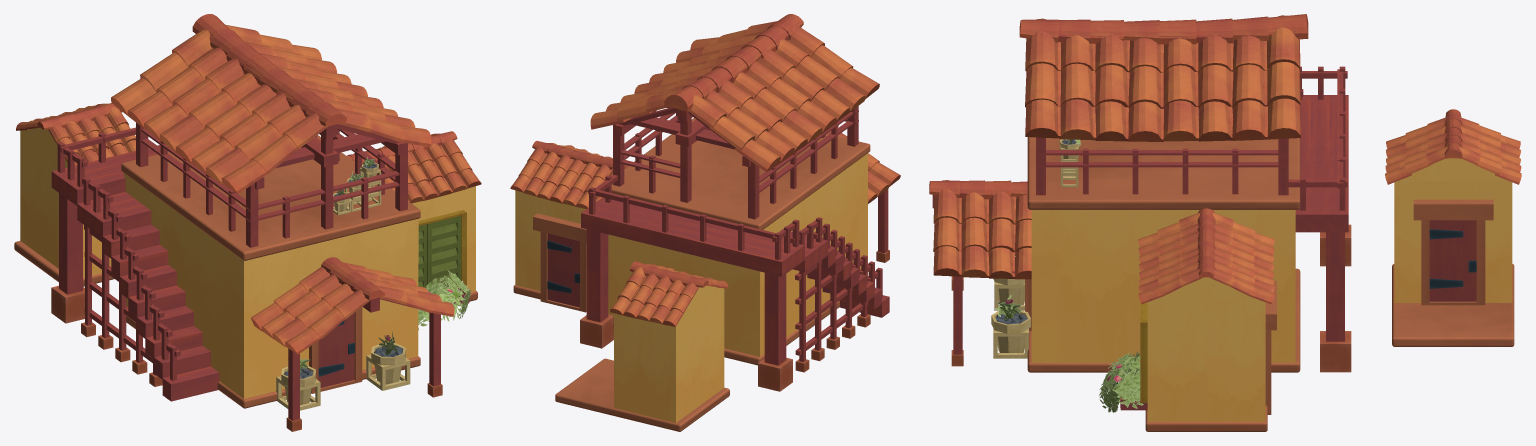
File: Long's house modular house 3.fbx
The picture shows the model from 3 angles, left to right: view 1: azimuth 30°, elevation 25°; view 2: azimuth 150°, elevation 25°; view 3: azimuth 270°, elevation 25°; orthographic projection. The views are drawn at different scales.
Visible parts, largest first — view 1: Cylinder.074; view 2: Cylinder.074; view 3: Cylinder.074.
Part boxes in pixels (x1=…): Cylinder.074: x1=14, y1=14, x2=481, y2=431; Cylinder.074: x1=510, y1=14, x2=900, y2=431; Cylinder.074: x1=929, y1=14, x2=1521, y2=431.
Size of the model in its own units: 1667 by 1339 by 2297.
